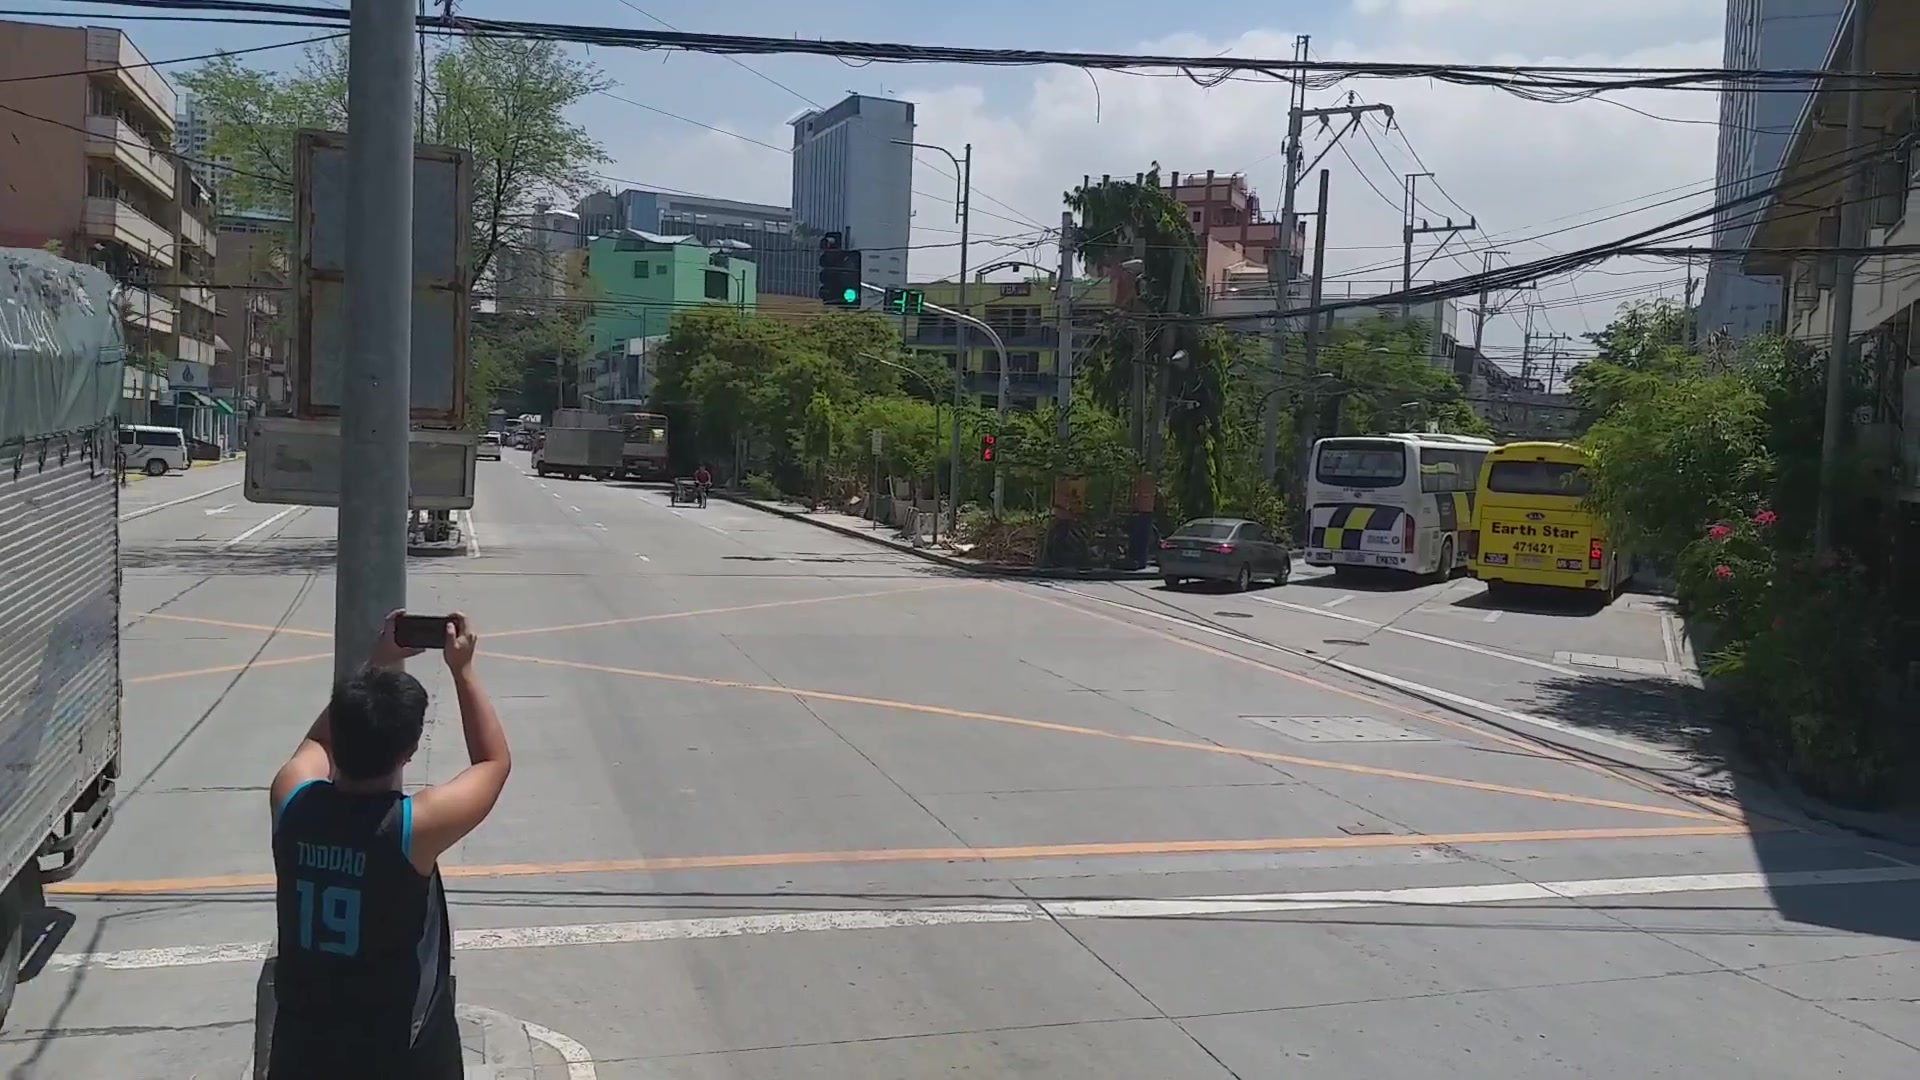truck: (522, 423, 632, 483)
